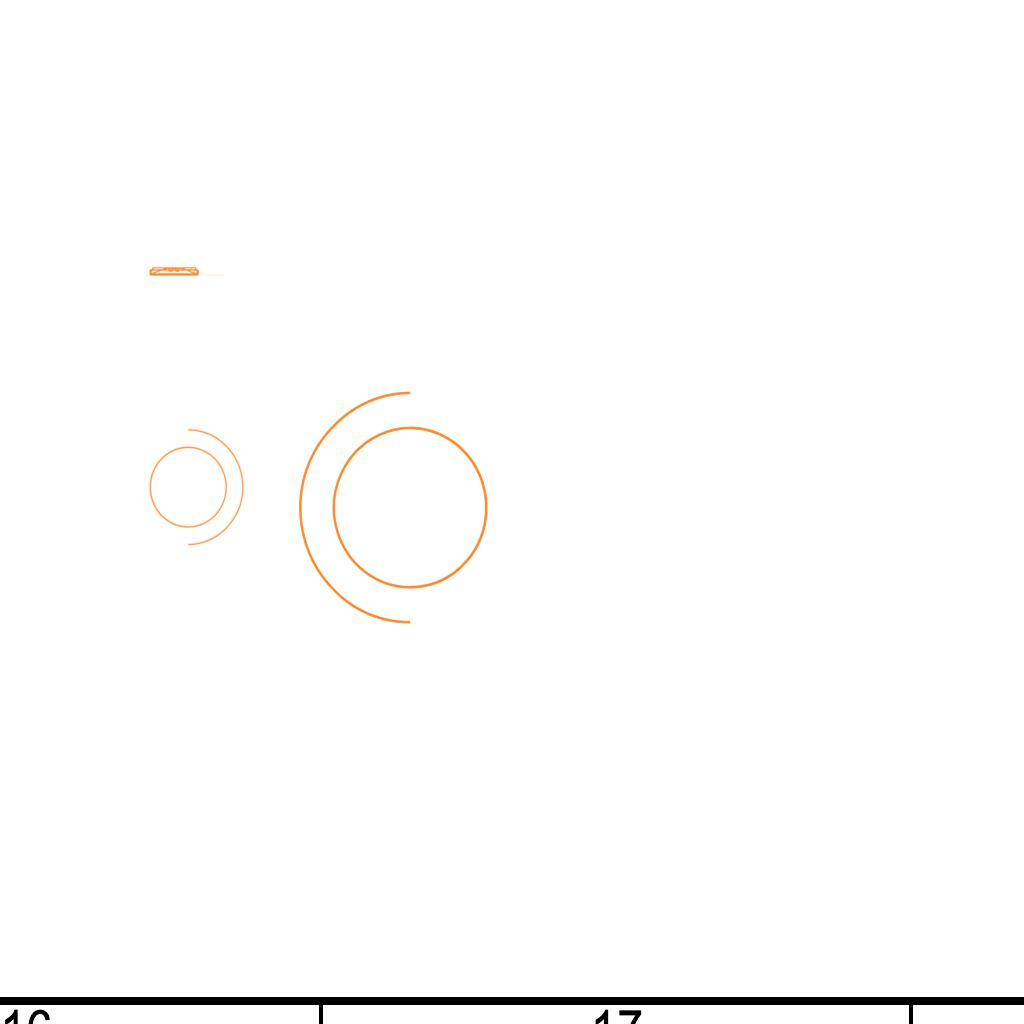Scheinwerfer_fuer_Alarmbeleuchtung: (288, 382, 513, 646), (137, 418, 249, 550)
Sicherheitsleuchte_Wandeinbau: (147, 265, 226, 277)
